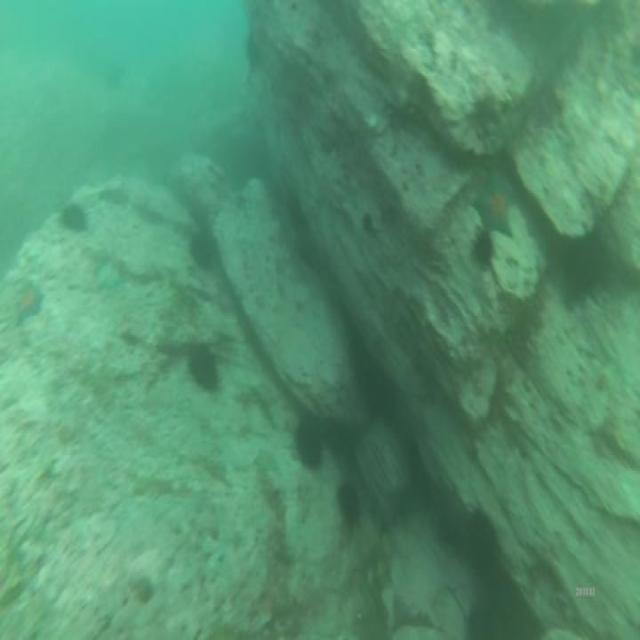echinus: (463, 507, 493, 572), (296, 408, 324, 469), (186, 346, 218, 389), (191, 226, 219, 270), (336, 480, 360, 523), (59, 205, 85, 234), (473, 232, 493, 264)
starfish: (473, 171, 512, 234), (14, 286, 42, 319), (98, 262, 121, 291), (257, 446, 278, 472)
